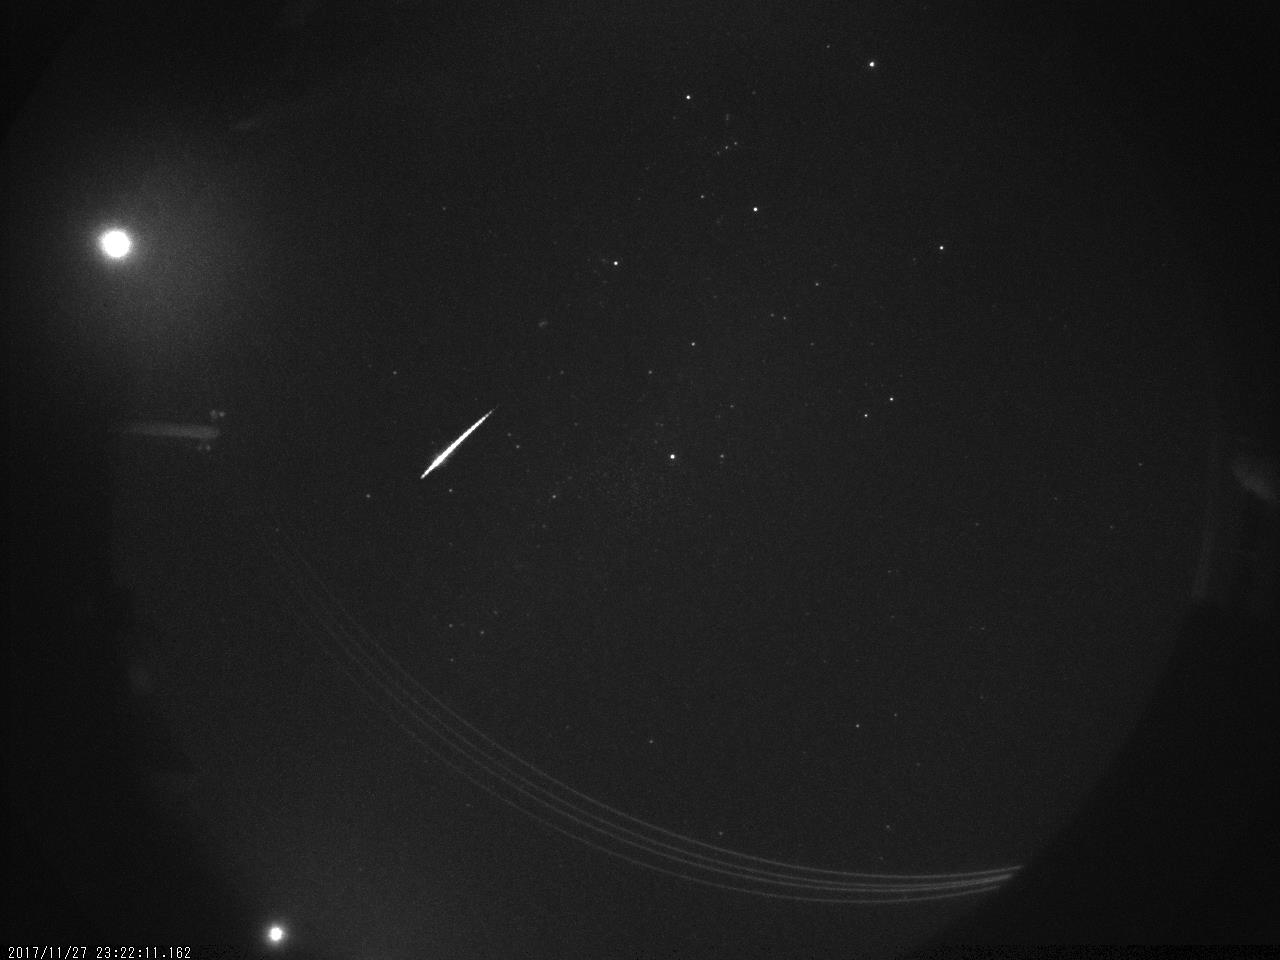meteor: (412, 401, 504, 484)
